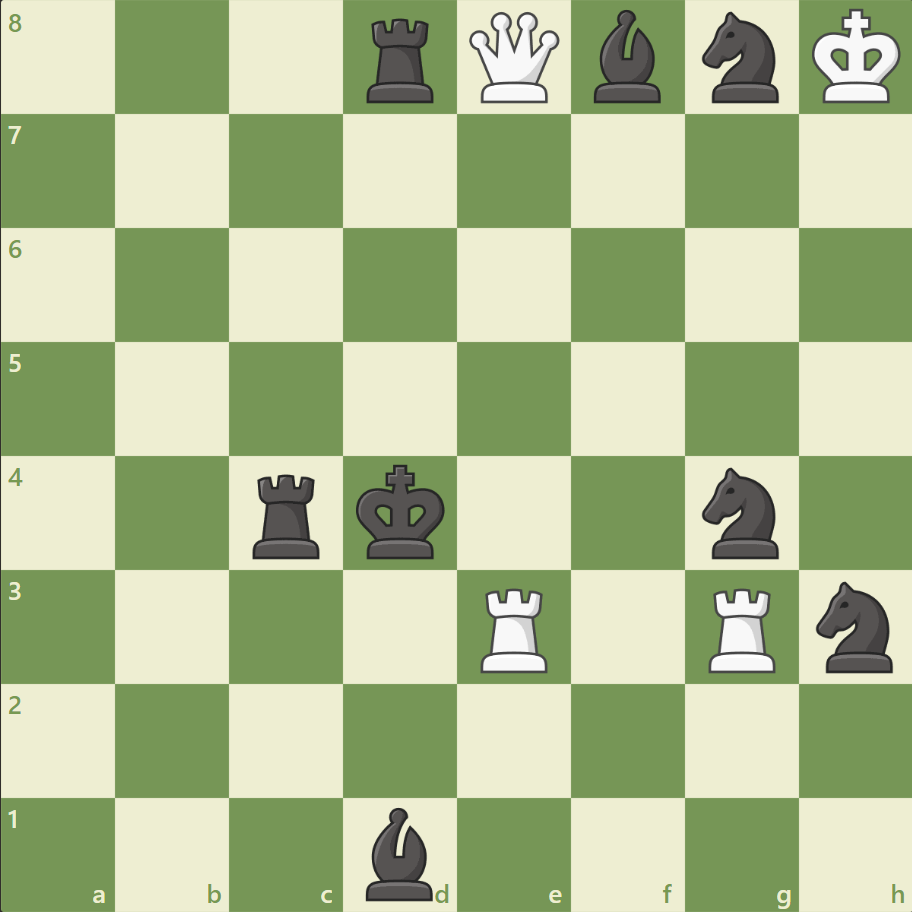K: (806, 4, 906, 112)
Q: (464, 9, 563, 108)
R: (473, 579, 556, 676), (700, 579, 783, 676)
b: (585, 6, 669, 109), (358, 801, 442, 904)
k: (351, 458, 451, 566)
n: (692, 7, 789, 110), (692, 461, 789, 564), (806, 575, 903, 677)
r: (246, 466, 329, 563), (360, 12, 442, 109)
